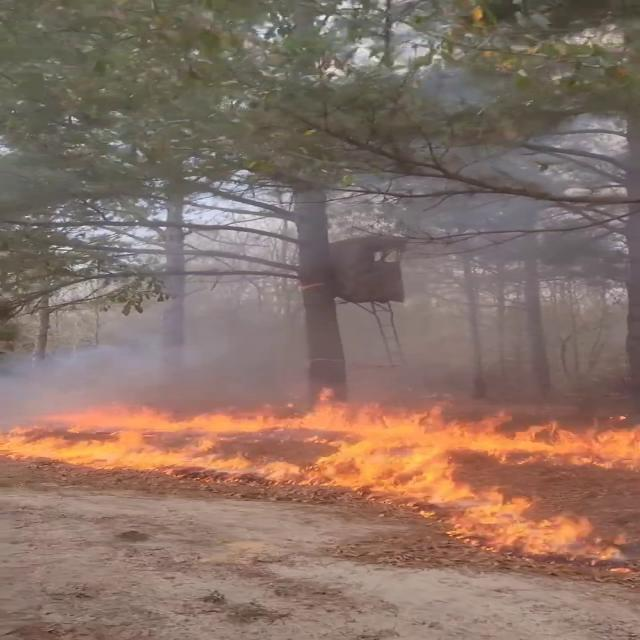Fire: (1, 384, 638, 482), (350, 458, 638, 558)
Smoke: (51, 237, 640, 411)
